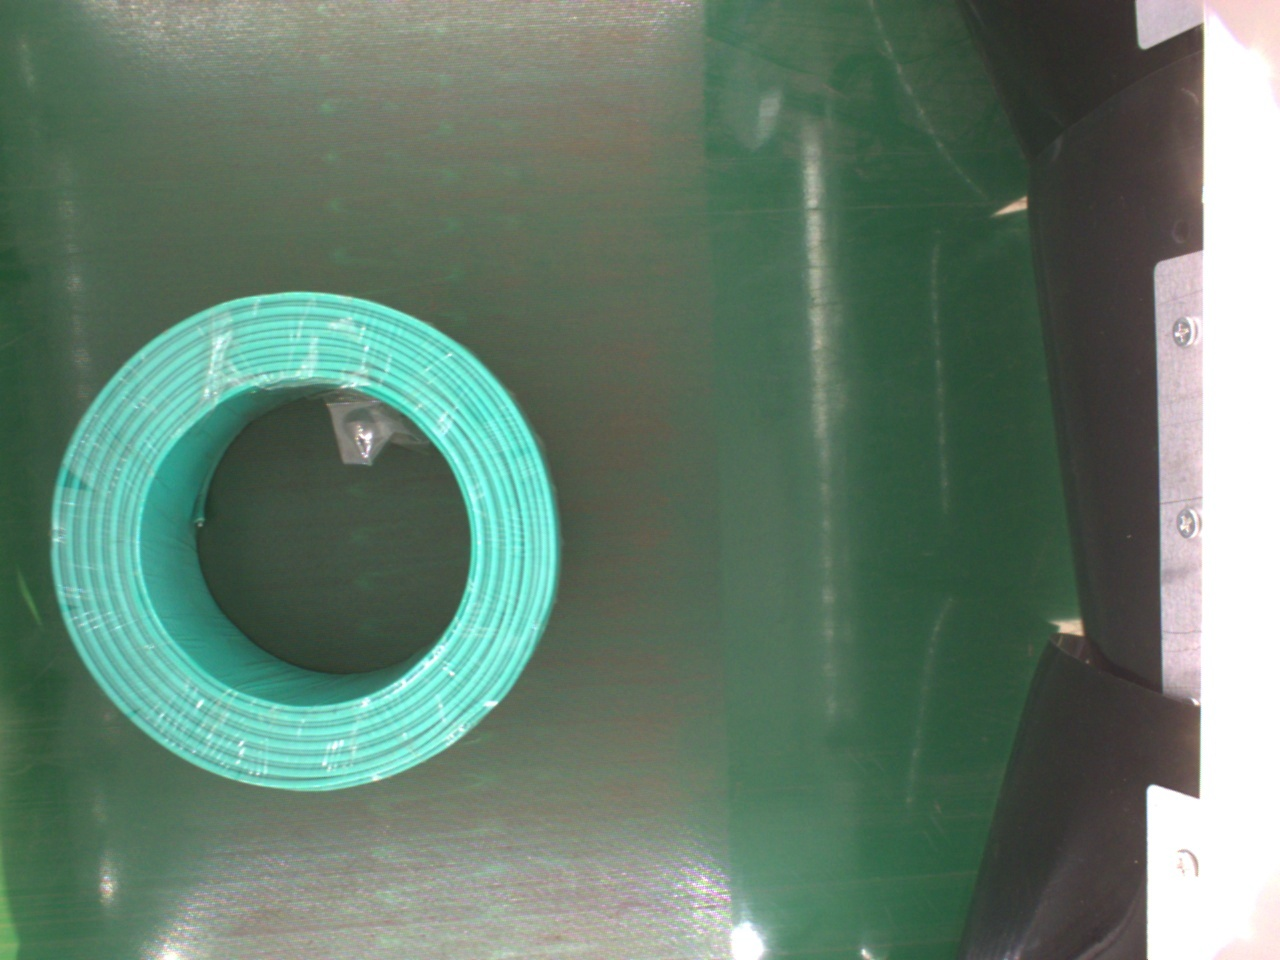green: (49, 292, 554, 794)
